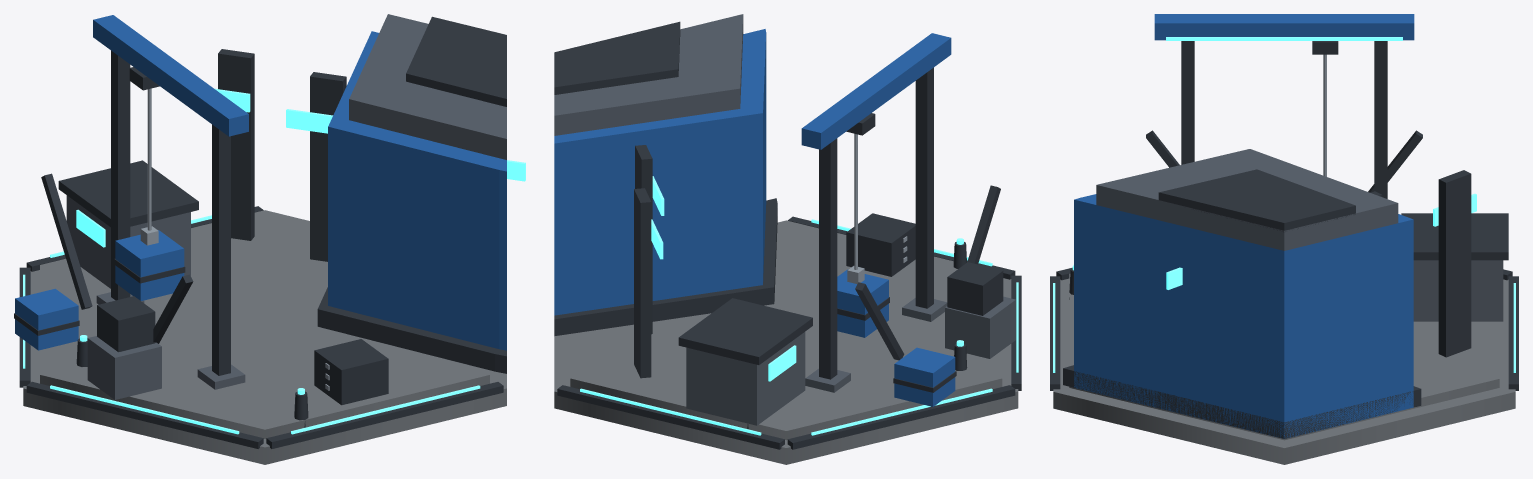
The model's file is forge-depot-tile-w.glb.
The picture shows the model from 3 angles, left to right: view 1: azimuth 30°, elevation 25°; view 2: azimuth 150°, elevation 25°; view 3: azimuth 270°, elevation 25°; orthographic projection. The views are drawn at different scales.
Parts seen in each view (by area): view 1: tile_deck_w, hull_body_w, hull_roof_w, base_plate_w, hull_crown_w, crane_beam, hull_skirt_w, crane_leg_r, service_roof_l, flank_rib_l_4, crane_leg_l, vent_block_l (+17 smaller); view 2: hull_body_w, tile_deck_w, hull_roof_w, base_plate_w, service_block_l, hull_crown_w, service_roof_l, crane_beam, hull_skirt_w, crane_leg_l, crane_leg_r, vent_block_l (+18 smaller); view 3: hull_body_w, base_plate_w, hull_roof_w, hull_crown_w, tile_deck_w, flank_rib_l_4, crane_beam, hull_skirt_w, service_block_l, service_roof_l, crane_leg_l, crane_leg_r (+5 smaller).
Part boxes in pixels (left/top/right/bottom): tile_deck_w: left=40, top=210, right=489, bottom=438; hull_body_w: left=328, top=31, right=506, bottom=350; hull_roof_w: left=349, top=14, right=506, bottom=159; base_plate_w: left=23, top=270, right=506, bottom=464; hull_crown_w: left=406, top=16, right=506, bottom=106; crane_beam: left=93, top=15, right=248, bottom=136; hull_skirt_w: left=317, top=287, right=506, bottom=373; crane_leg_r: left=212, top=124, right=230, bottom=375; service_roof_l: left=58, top=160, right=198, bottom=227; flank_rib_l_4: left=218, top=49, right=254, bottom=240; crane_leg_l: left=111, top=50, right=130, bottom=300; vent_block_l: left=314, top=339, right=388, bottom=405; hull_body_w: left=554, top=29, right=766, bottom=315; tile_deck_w: left=570, top=220, right=1002, bottom=440; hull_roof_w: left=554, top=14, right=743, bottom=135; base_plate_w: left=554, top=278, right=1018, bottom=464; service_block_l: left=686, top=332, right=805, bottom=425; hull_crown_w: left=554, top=21, right=680, bottom=94; service_roof_l: left=678, top=298, right=812, bottom=364; crane_beam: left=801, top=33, right=951, bottom=149; hull_skirt_w: left=554, top=198, right=777, bottom=336; crane_leg_l: left=819, top=138, right=837, bottom=379; crane_leg_r: left=915, top=67, right=933, bottom=308; vent_block_l: left=846, top=213, right=915, bottom=276; hull_body_w: left=1074, top=194, right=1413, bottom=438; base_plate_w: left=1053, top=278, right=1515, bottom=464; hull_roof_w: left=1096, top=149, right=1398, bottom=250; hull_crown_w: left=1158, top=169, right=1355, bottom=232; tile_deck_w: left=1069, top=273, right=1499, bottom=440; flank_rib_l_4: left=1438, top=170, right=1471, bottom=357; crane_beam: left=1154, top=14, right=1414, bottom=40; hull_skirt_w: left=1063, top=365, right=1421, bottom=438; service_block_l: left=1413, top=260, right=1503, bottom=321; service_roof_l: left=1401, top=213, right=1508, bottom=260; crane_leg_l: left=1374, top=41, right=1387, bottom=198; crane_leg_r: left=1181, top=41, right=1194, bottom=164.
Size of the model in its own units: 14.4 by 8.62 by 12.65.
